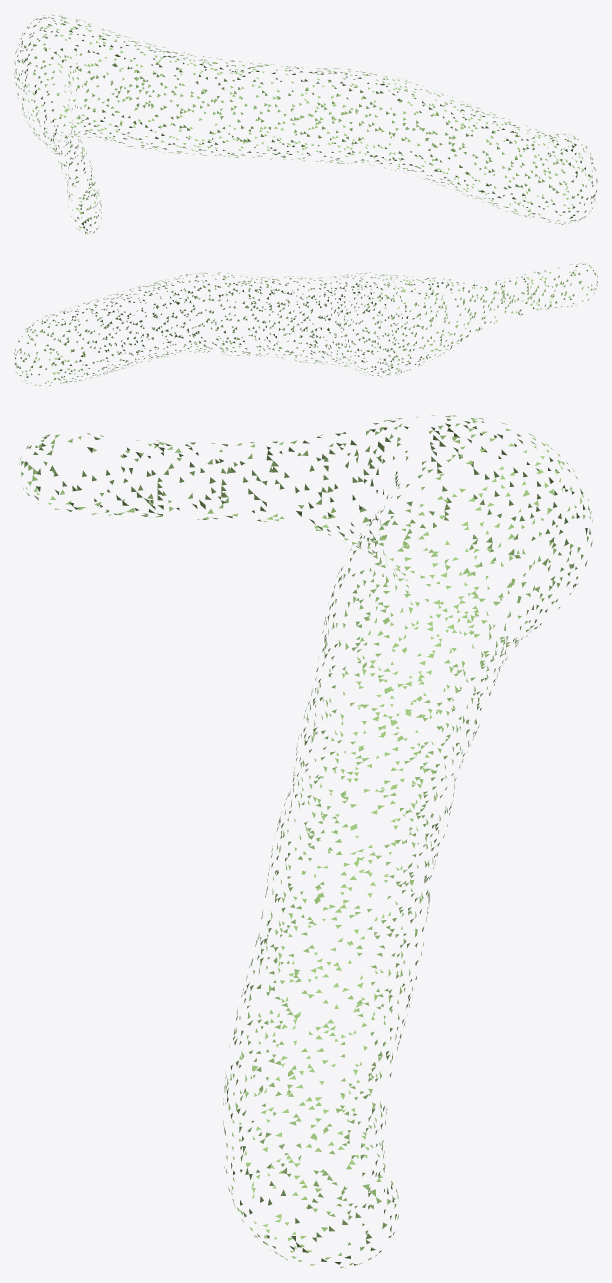
Rendered from morph_013.glb.
The picture shows the model from 3 angles, top to bottom: view 1: azimuth 30°, elevation 25°; view 2: azimuth 150°, elevation 25°; view 3: azimuth 270°, elevation 25°; orthographic projection. The views are drawn at different scales.
Bounding box in the file's own units: 125 × 54.64 × 62.2.
